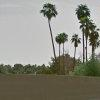Tree: (36, 1, 100, 55)
